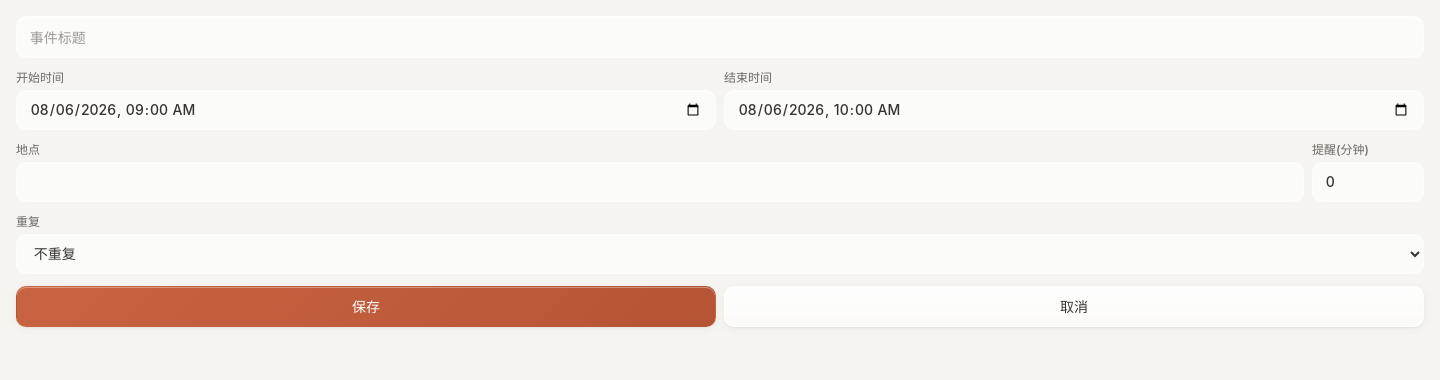
Scenario: EventForm › 标题必填校验
The image size is (1440, 380).
Click the button "保存" at [366, 306], box [16, 286, 716, 327]
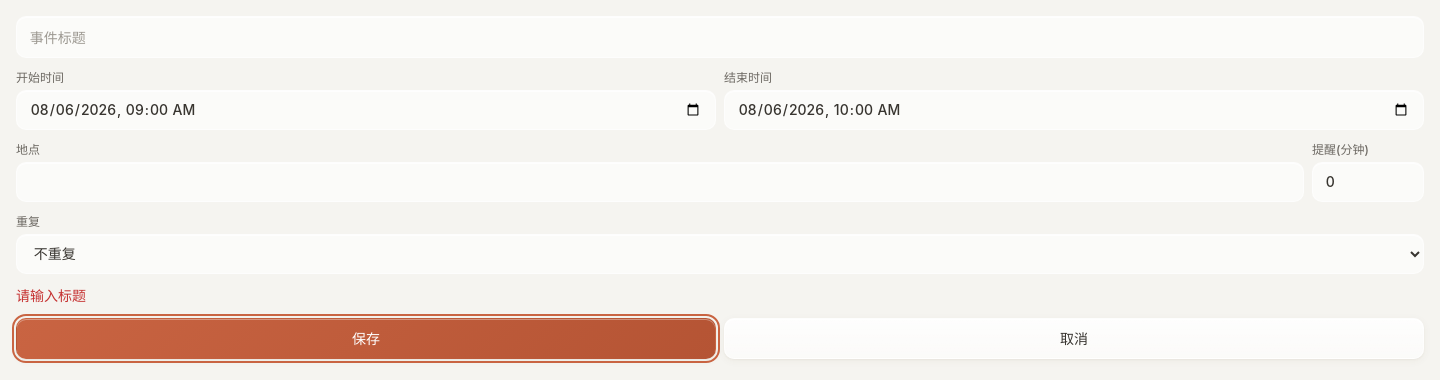
Check: the text "请输入标题" is shown, box [16, 287, 86, 304]
